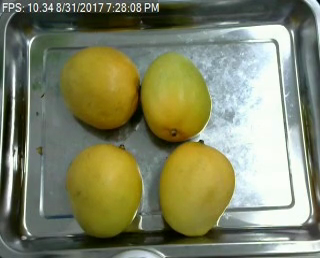Mango: (62, 143, 143, 236), (156, 143, 236, 237), (63, 43, 140, 128), (140, 51, 210, 140)
